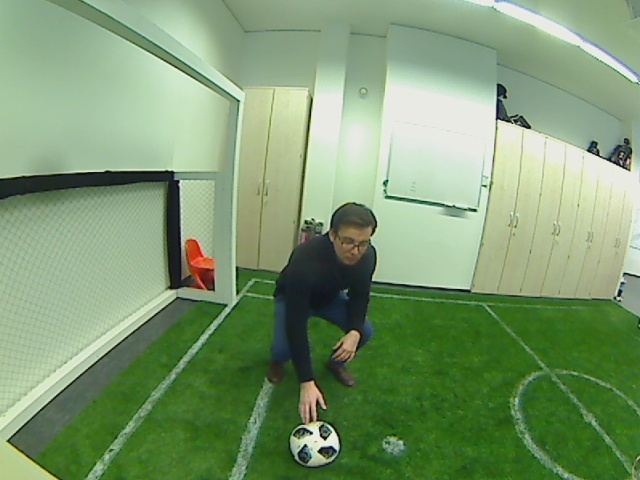ball: (288, 421, 342, 467)
